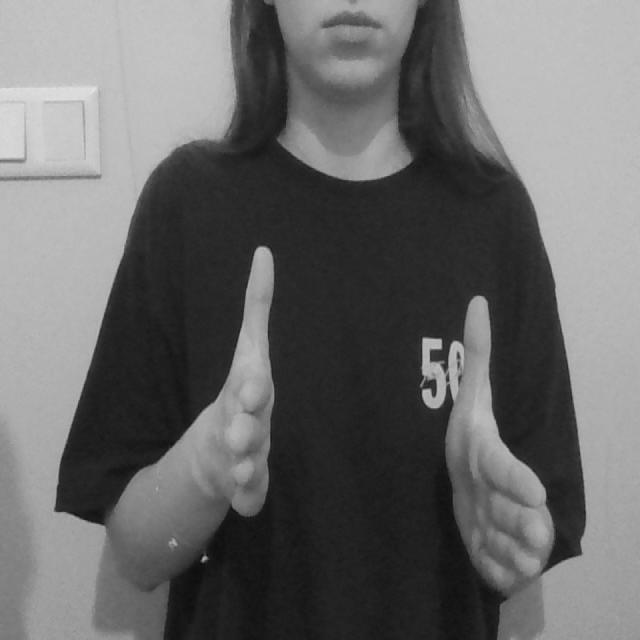Nasil: (201, 242, 555, 596)
